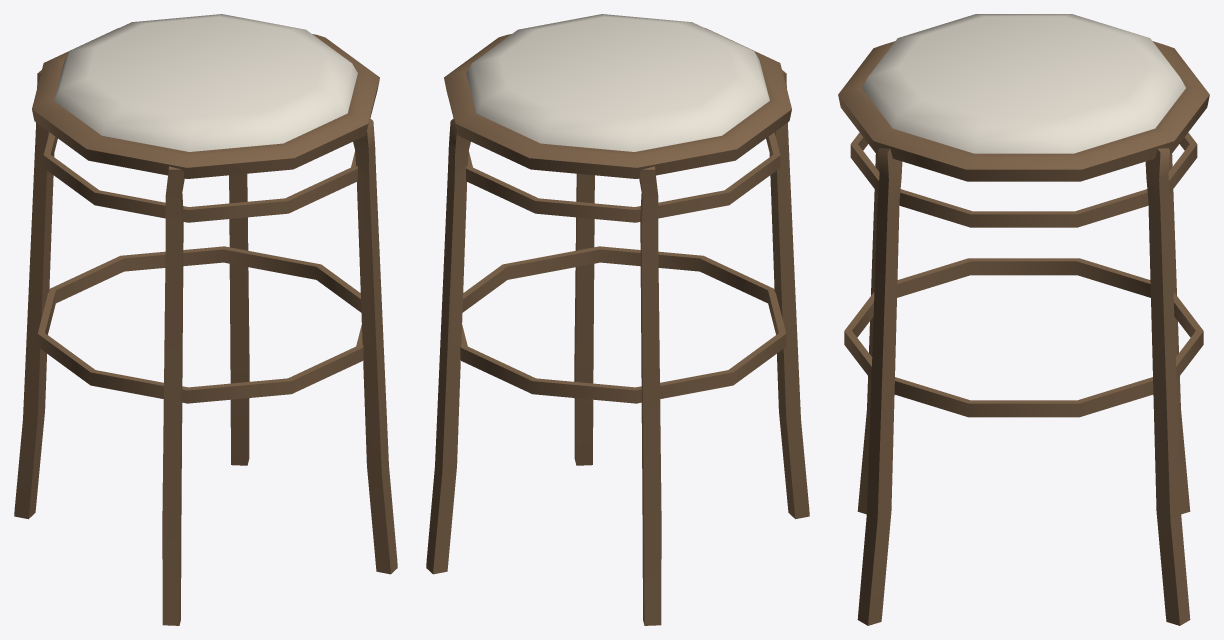
File: pk_stool_oak.glb
The picture shows the model from 3 angles, left to right: view 1: azimuth 30°, elevation 25°; view 2: azimuth 150°, elevation 25°; view 3: azimuth 270°, elevation 25°; orthographic projection. The views are drawn at different scales.
Parts seen in each view (by area): view 1: pk_stool_oak; view 2: pk_stool_oak; view 3: pk_stool_oak.
Part boxes in pixels (left/top/right/bottom): pk_stool_oak: left=14, top=14, right=397, bottom=625; pk_stool_oak: left=426, top=14, right=809, bottom=625; pk_stool_oak: left=838, top=14, right=1209, bottom=625.
Bounding box in the file's own units: 0.44 × 0.68 × 0.46.
1 material, 1 textured.
